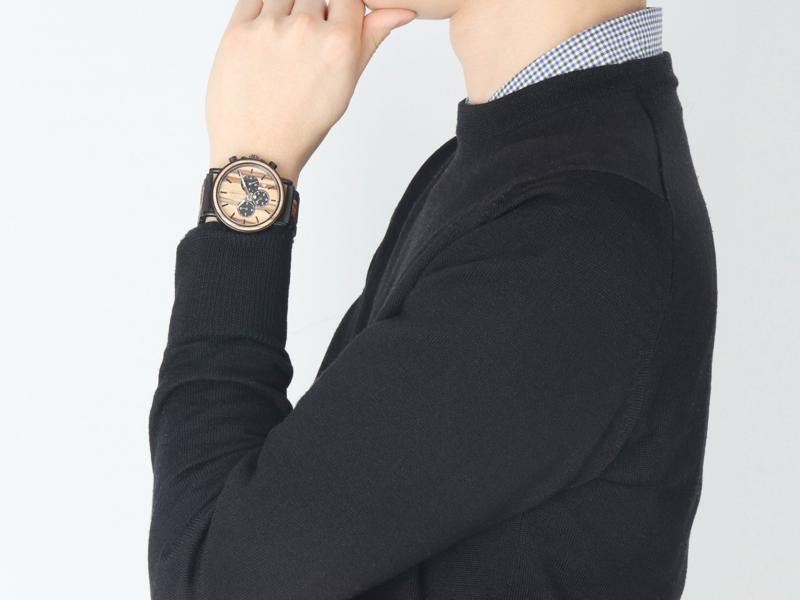watch: (197, 149, 303, 239)
